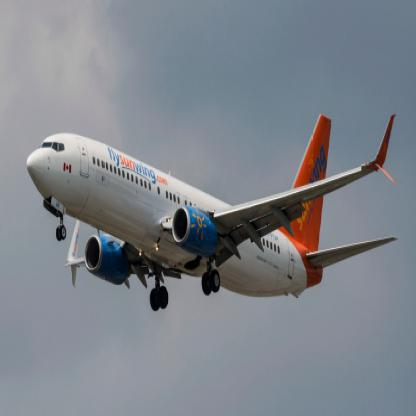CIV_Plane: (20, 109, 400, 316)
